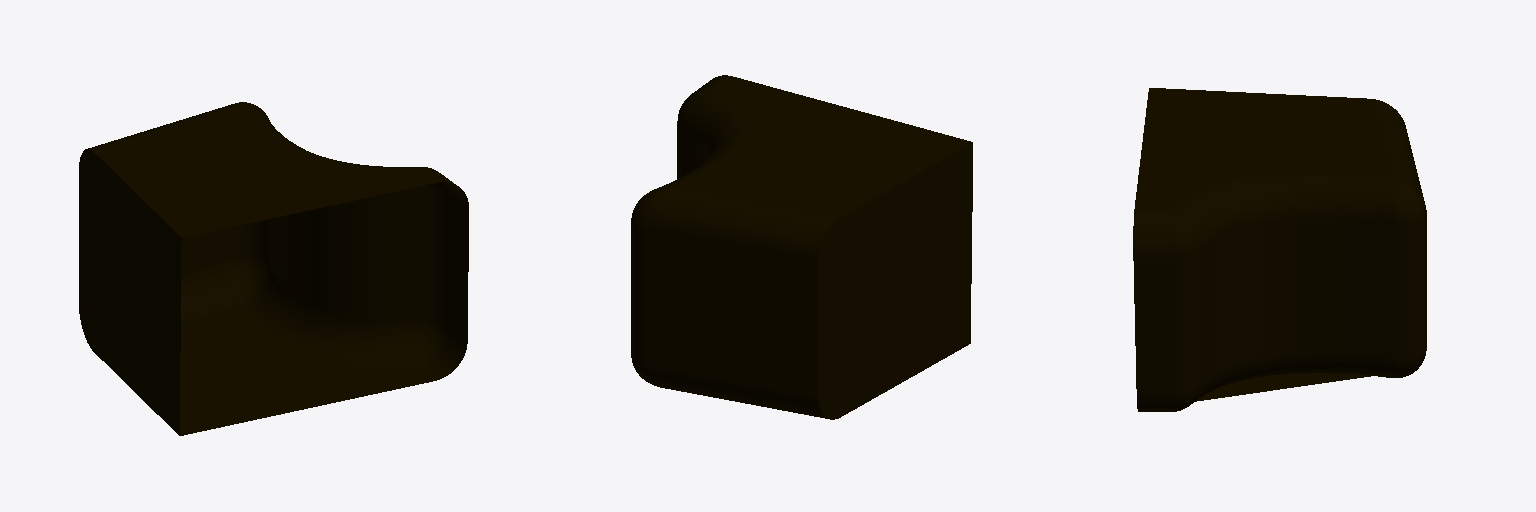
Rendered from trigger.obj.
3 views of the same model, side by side, from view 1: azimuth 30°, elevation 25°; view 2: azimuth 150°, elevation 25°; view 3: azimuth 270°, elevation 25° (orthographic).
Visible parts, largest first — view 1: trigger_obj12.001; view 2: trigger_obj12.001; view 3: trigger_obj12.001.
Part boxes in pixels (x1,y1,x2,y2): trigger_obj12.001: (79,102,468,435); trigger_obj12.001: (631,75,972,419); trigger_obj12.001: (1133,88,1426,411).
Size of the model in its own units: 0.027 by 0.0185 by 0.0245.